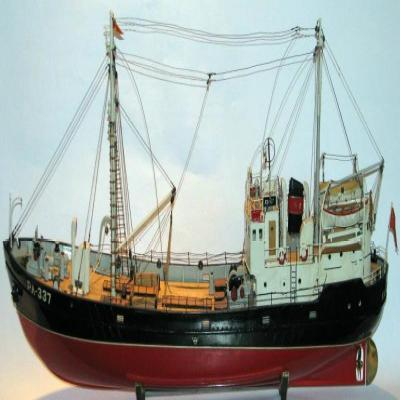other: (3, 14, 388, 400)
